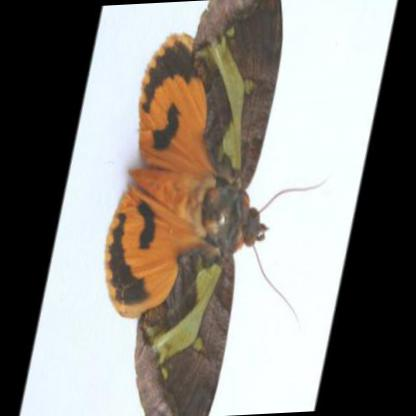fruit sucking moth: (102, 0, 283, 416)
